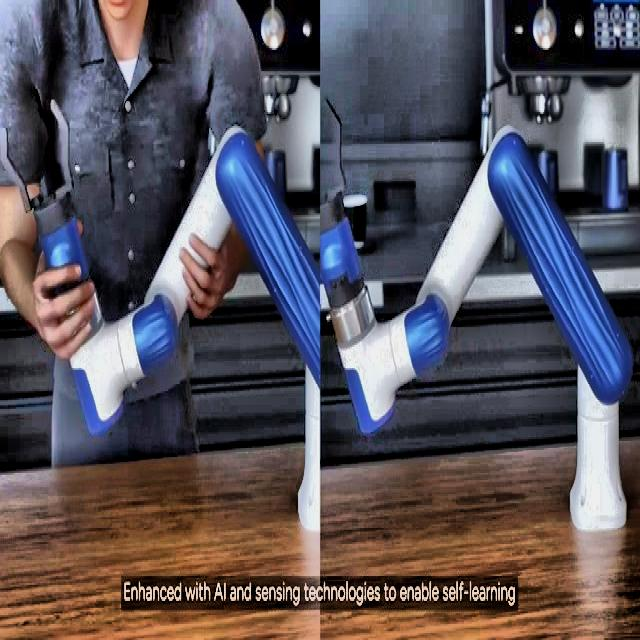robot: (319, 121, 633, 531), (24, 107, 320, 533)
